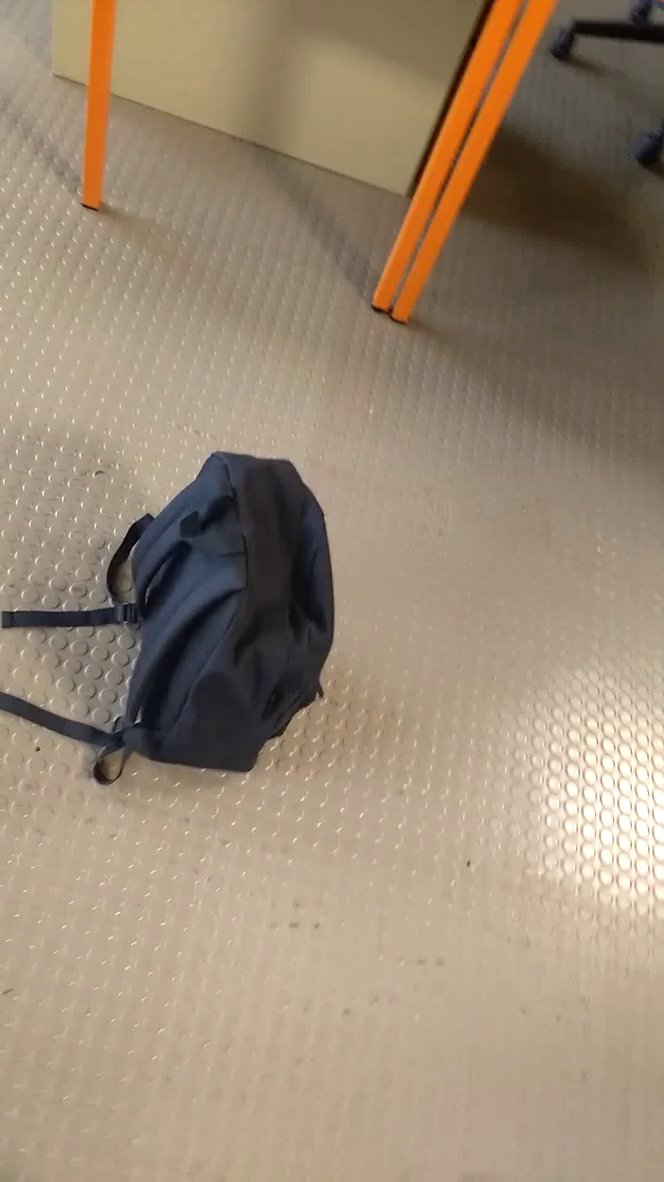bag: (1, 436, 360, 798)
